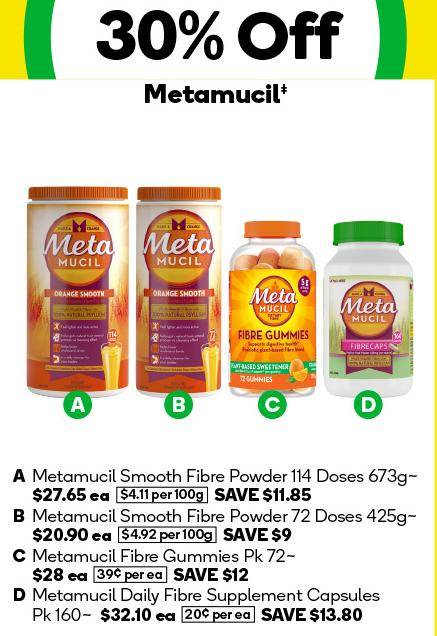description_block: (30, 460, 409, 488), (30, 585, 388, 606), (31, 506, 407, 525), (31, 547, 289, 565)
price_main: (28, 481, 113, 505), (97, 605, 177, 629), (28, 527, 115, 545), (28, 564, 94, 586)
product_image_block: (20, 174, 137, 424), (321, 174, 425, 426), (226, 174, 321, 426), (138, 174, 225, 426)
promo_text_block: (200, 485, 330, 505), (259, 604, 366, 624), (168, 565, 257, 584), (222, 525, 296, 544)
unit_price_block: (114, 525, 217, 544), (115, 486, 209, 505), (90, 562, 168, 584), (178, 607, 261, 626)
